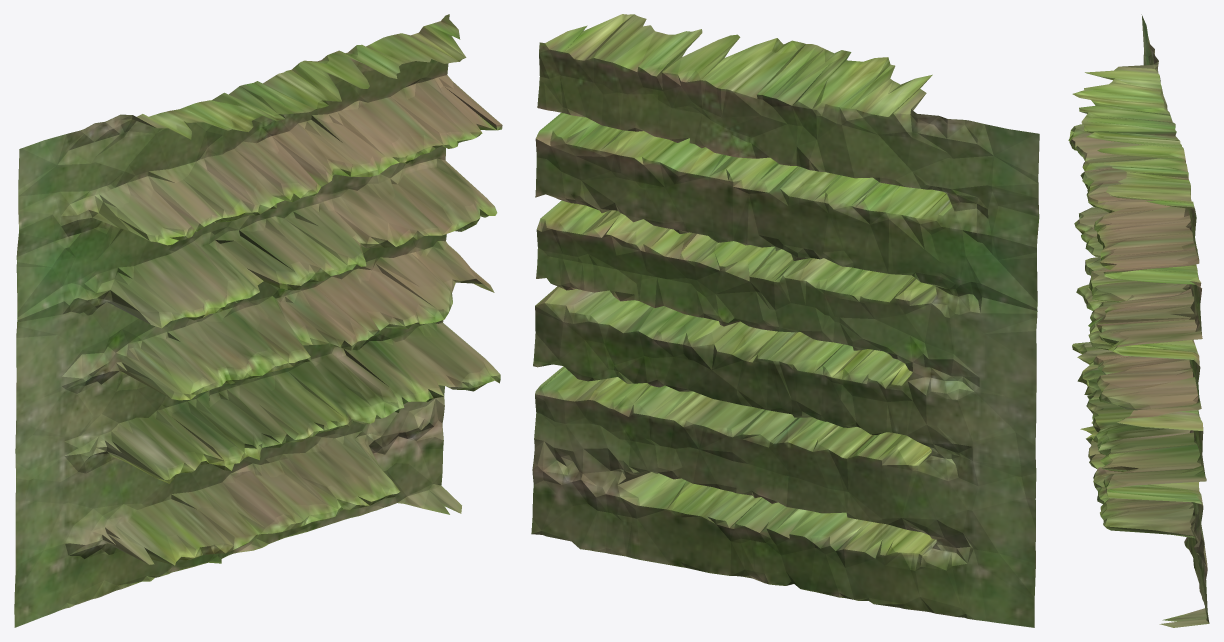
The model's file is map_200_90.obj.
3 renders of one model, left to right at view 1: azimuth 30°, elevation 25°; view 2: azimuth 150°, elevation 25°; view 3: azimuth 270°, elevation 25°, orthographic. The views are drawn at different scales.
Visible parts, largest first — view 1: grp1; view 2: grp1; view 3: grp1.
Part boxes in pixels (x1=…): grp1: x1=14, y1=14, x2=502, y2=627; grp1: x1=531, y1=14, x2=1039, y2=627; grp1: x1=1068, y1=14, x2=1209, y2=627.
Size of the model in its own units: 10 by 10 by 3.06.
Materials: 1 (1 with a texture image).
